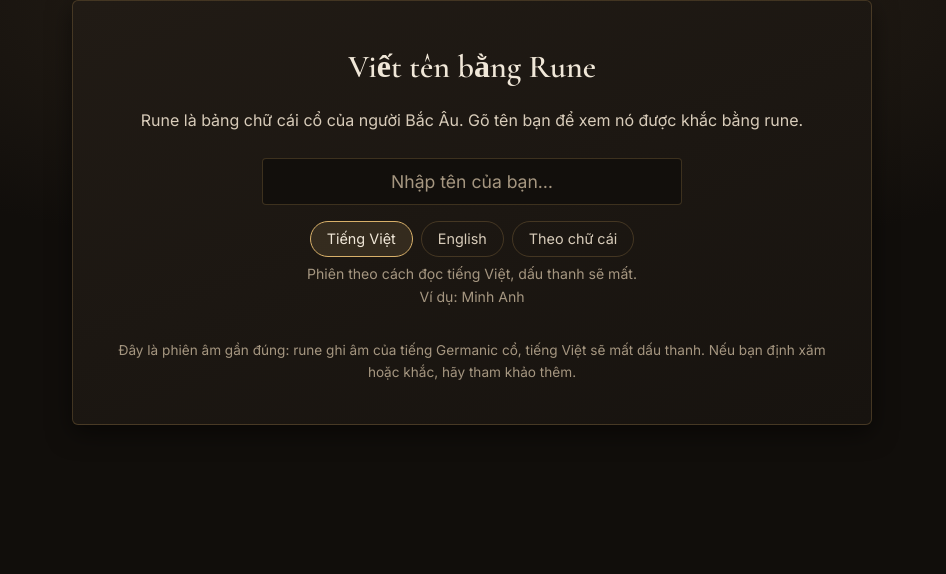
it: NameWriterTab › gõ "Minh" hiện rune theo âm tiếng Việt (mặc định)
In the field named "Tên cần viết bằng rune": (472, 181) [262,158,682,205], type "Minh"
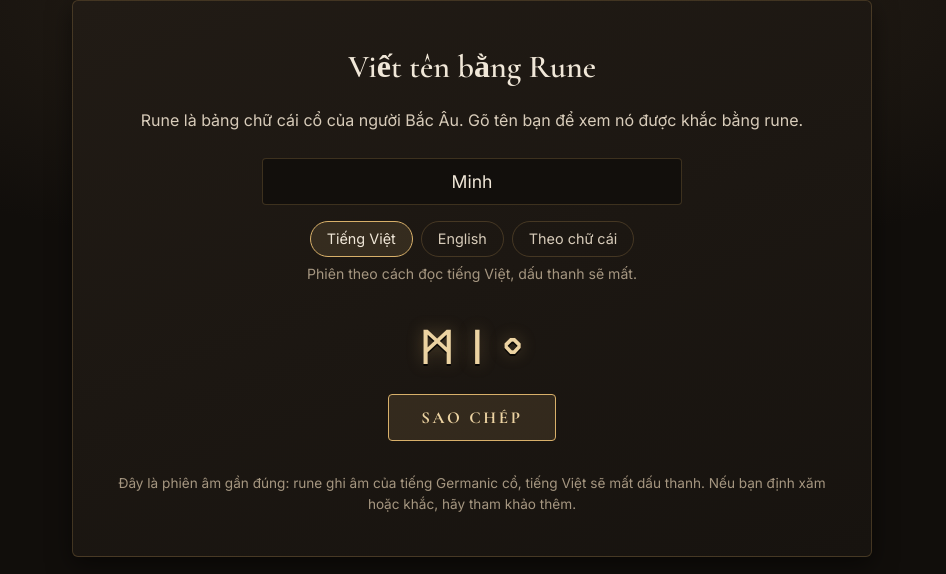
Check: the buttons ", từ \"" read "ᛗ", "ᛁ", "ᛜ", in this order, box [412,318,462,374]; [464,318,491,374]; [493,318,532,374]
